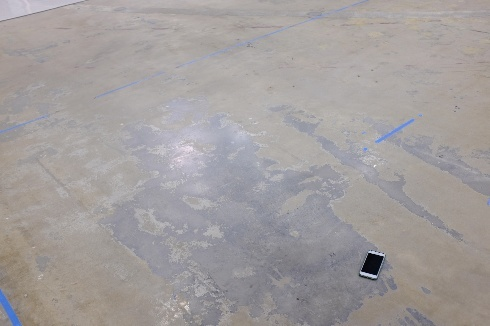phone: (348, 249, 397, 281)
